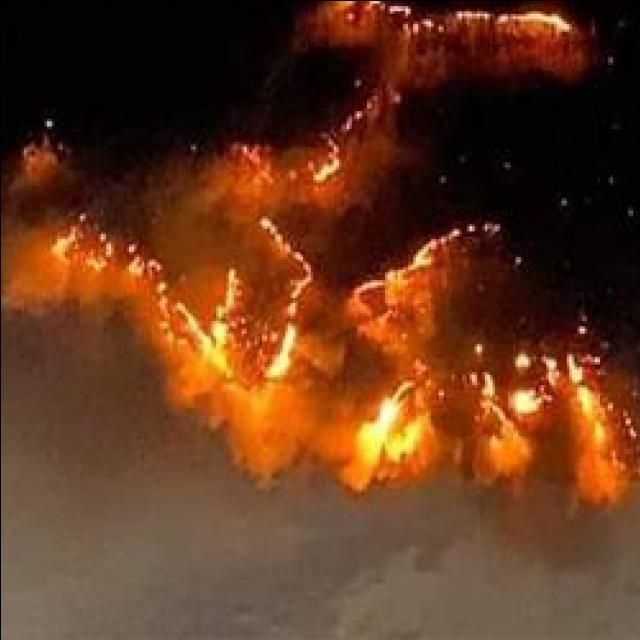fire: (158, 274, 248, 376), (350, 385, 430, 493), (568, 369, 622, 503), (445, 5, 576, 36)
smoke: (160, 162, 244, 276), (222, 382, 306, 486), (212, 154, 290, 222), (31, 258, 121, 314), (0, 221, 48, 305)
